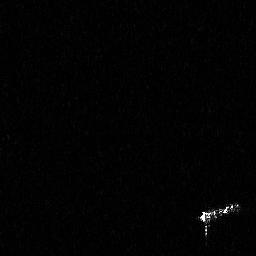ship: (198, 202, 243, 240)
